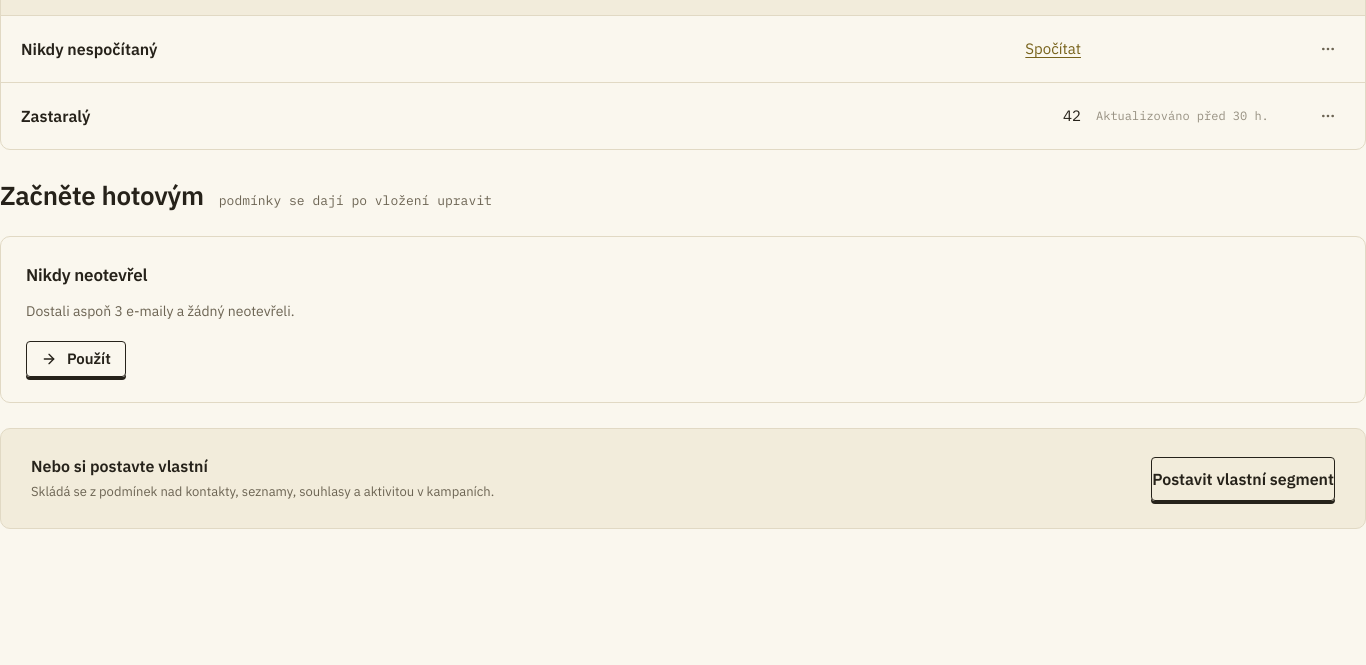
Test: nabídka „…" v řádku segmentu › okno mazání říká, že kontakty zůstávají, a že to nejde vrátit
The image size is (1366, 665).
Click the button named "Další akce se segmentem": [1328, 116] box [1311,99,1345,133]
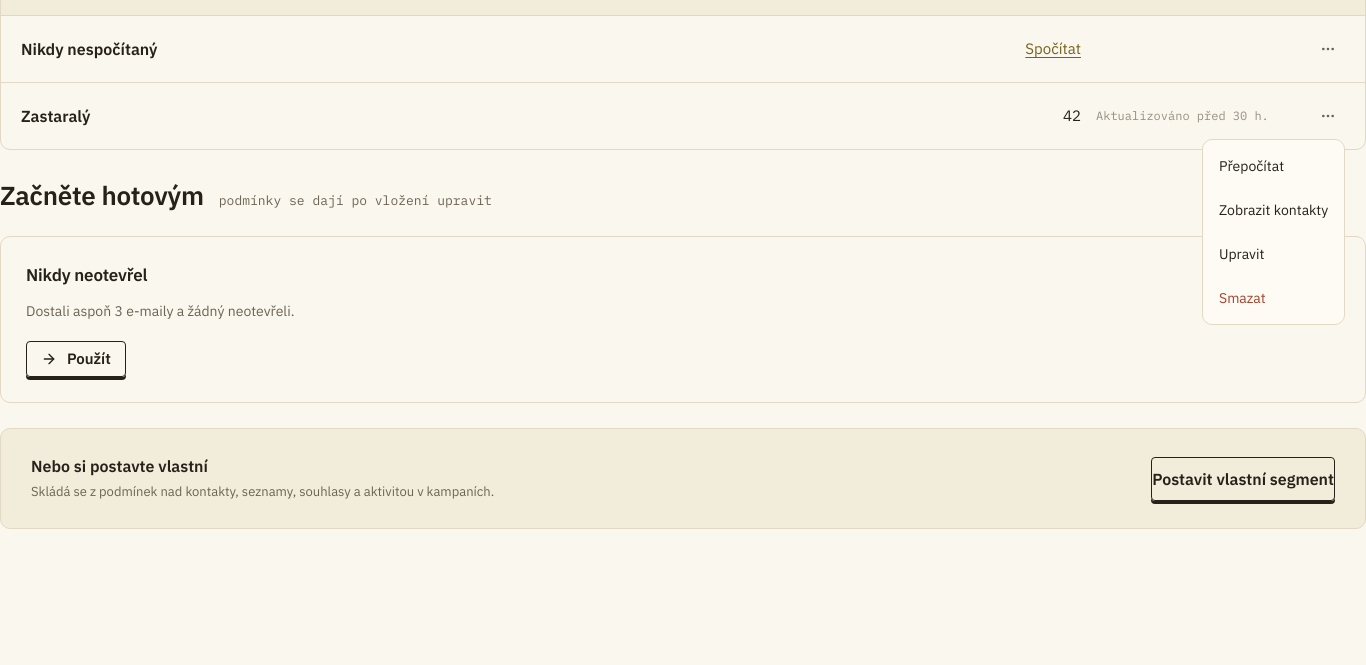
Click the menu item "Smazat": [1242, 298] box [1219,289,1266,307]
(page scrolled)
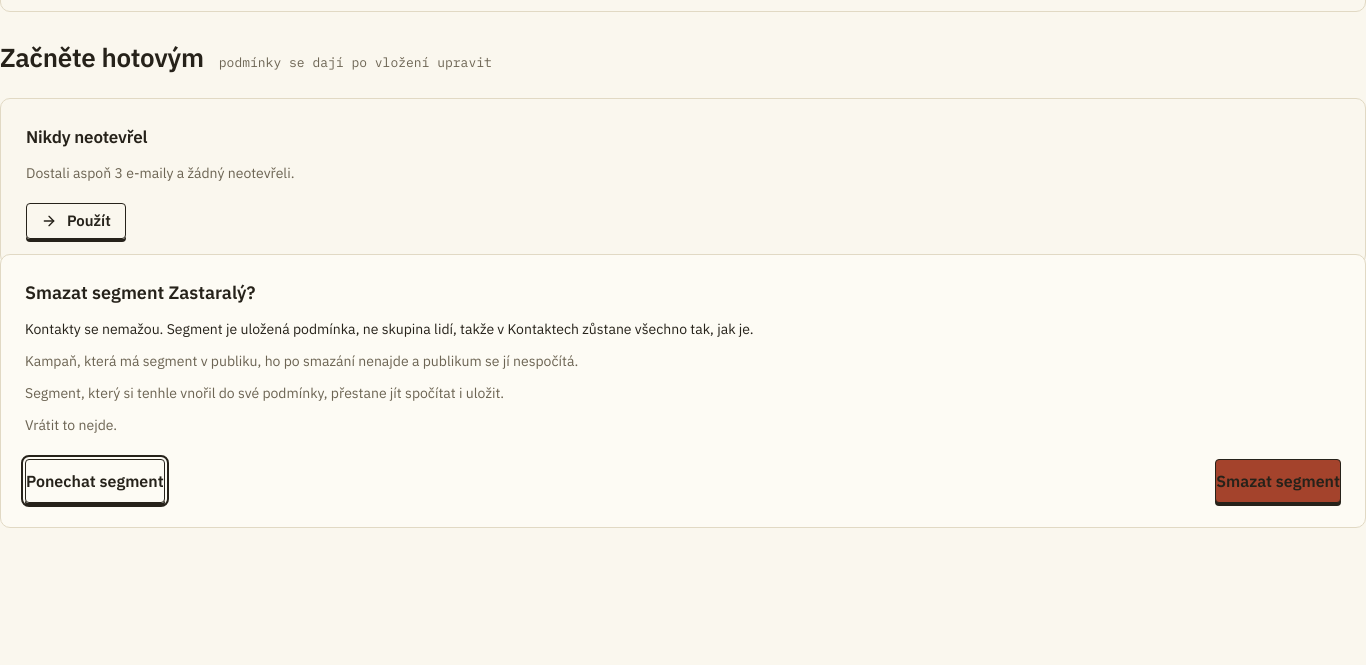
expect the heading "Smazat segment Zastaralý?" is shown: met, box [25,281,255,304]
expect the text "Kontakty se nemažou" is shown: met, box [25,320,754,338]
expect the text "Vrátit to nejde." is shown: met, box [25,416,117,434]
